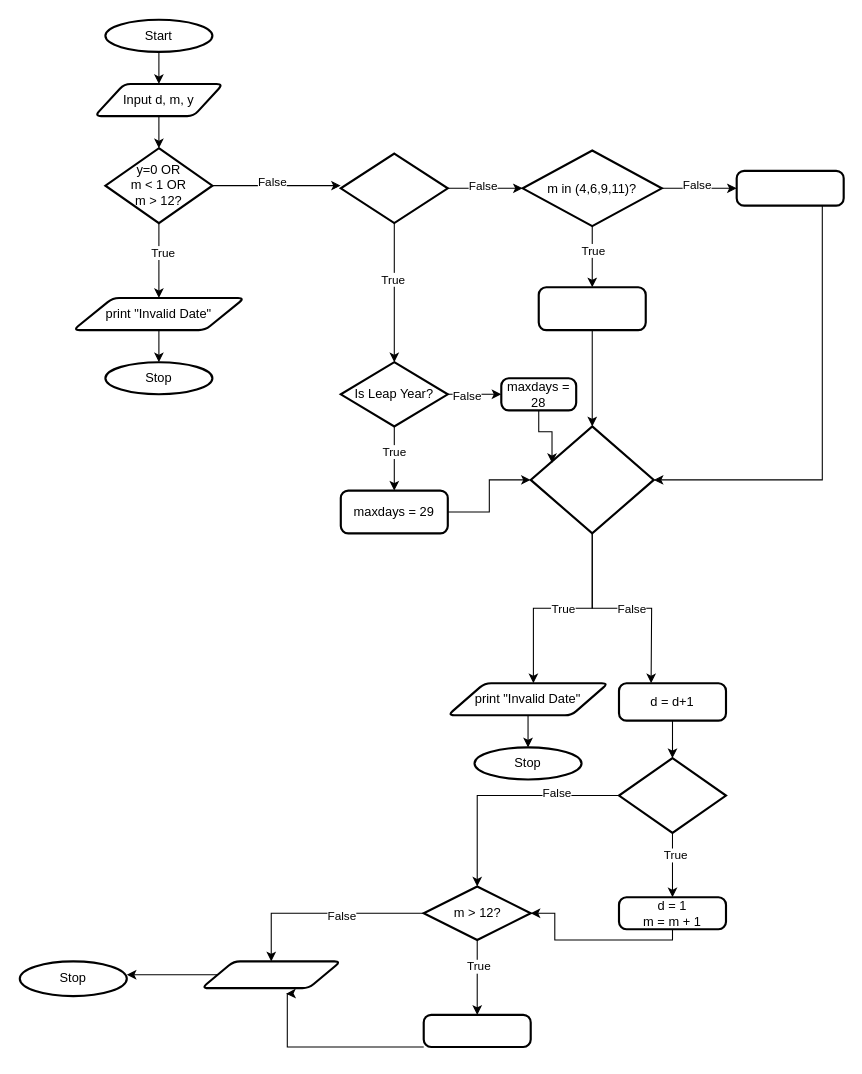
The diagram is 862 pixels wide and 1074 high, and some of its shapes have lost their labels. The centre of each missing label's shape, as x and y in pixels:
"d < 1 OR D > maxdays?" goes at point 591,479.
"d > maxdays?" goes at point 672,795.
"m = 1 y = y + 1" goes at point 476,1030.
"m == 2?" goes at point 393,188.
"maxdays = 30" goes at point 591,308.
"maxdays = 31" goes at point 789,187.
"print new date" goes at point 270,974.
